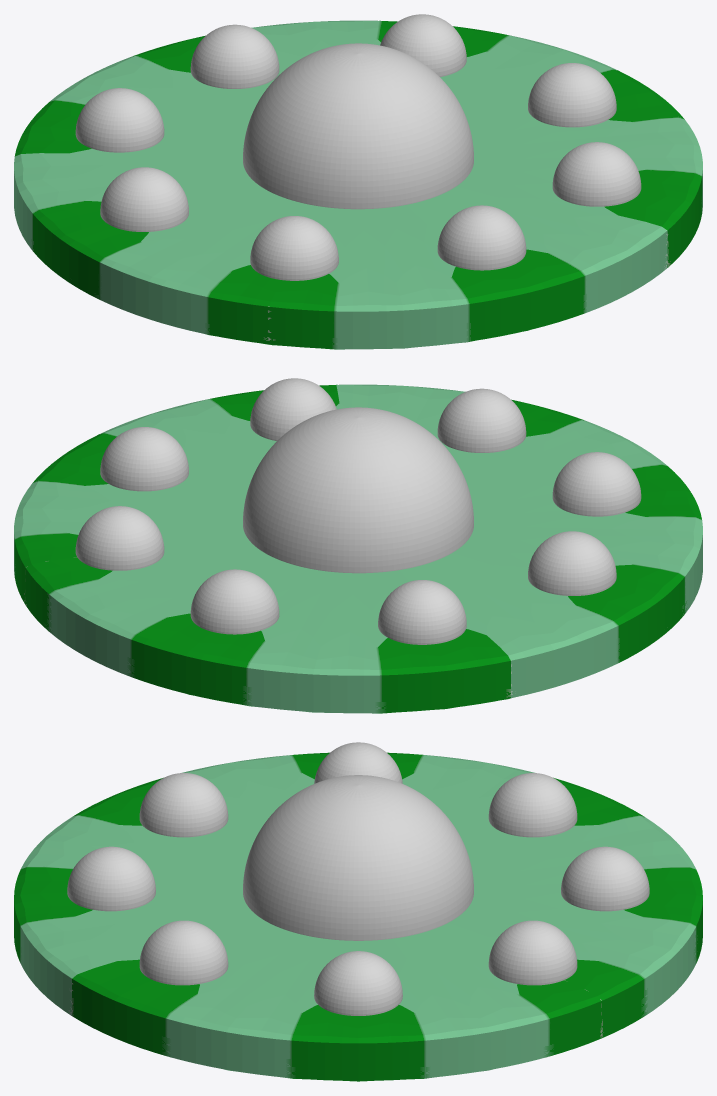
File: ufo.fbx
3 renders of one model, top to bottom at view 1: azimuth 30°, elevation 25°; view 2: azimuth 150°, elevation 25°; view 3: azimuth 270°, elevation 25°, orthographic.
Visible parts, largest first — view 1: Cylinder, Sphere, Sphere.004, Sphere.005, Sphere.008, Sphere.002, Sphere.007, Sphere.001, Sphere.003, Sphere.006; view 2: Cylinder, Sphere, Sphere.003, Sphere.007, Sphere.006, Sphere.002, Sphere.005, Sphere.001, Sphere.004, Sphere.008; view 3: Cylinder, Sphere, Sphere.008, Sphere.006, Sphere.001, Sphere.004, Sphere.003, Sphere.007, Sphere.005, Sphere.002.
Part boxes in pixels (box(x1,y1,x2,y2)): Cylinder: box(14, 20, 702, 349); Sphere: box(243, 43, 473, 209); Sphere.004: box(437, 205, 526, 270); Sphere.005: box(250, 216, 338, 280); Sphere.008: box(552, 142, 641, 206); Sphere.002: box(100, 167, 188, 231); Sphere.007: box(75, 88, 164, 152); Sphere.001: box(528, 63, 616, 127); Sphere.003: box(190, 24, 279, 88); Sphere.006: box(380, 14, 466, 76); Cylinder: box(14, 384, 702, 713); Sphere: box(243, 407, 473, 573); Sphere.003: box(190, 569, 279, 634); Sphere.007: box(378, 580, 466, 644); Sphere.006: box(75, 506, 164, 570); Sphere.002: box(528, 531, 616, 595); Sphere.005: box(552, 452, 641, 516); Sphere.001: box(100, 427, 188, 491); Sphere.004: box(437, 388, 526, 452); Sphere.008: box(250, 378, 336, 440); Cylinder: box(14, 752, 702, 1081); Sphere: box(243, 775, 473, 940); Sphere.008: box(139, 920, 228, 985); Sphere.006: box(488, 920, 577, 985); Sphere.001: box(314, 951, 402, 1015); Sphere.004: box(67, 846, 155, 911); Sphere.003: box(561, 846, 649, 911); Sphere.007: box(488, 773, 577, 837); Sphere.005: box(139, 773, 228, 837); Sphere.002: box(314, 742, 402, 783).
Bounding box in the file's own units: 589 × 149 × 589.
